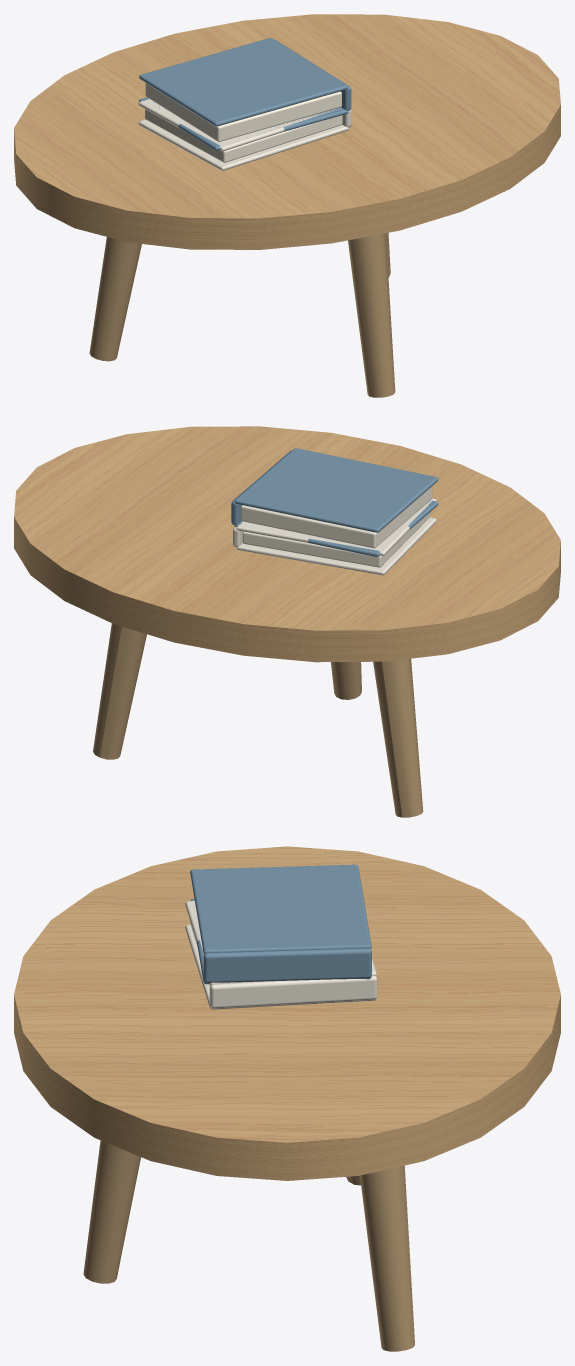
Rendered from coffeeTable.glb.
The picture shows the model from 3 angles, top to bottom: view 1: azimuth 30°, elevation 25°; view 2: azimuth 150°, elevation 25°; view 3: azimuth 270°, elevation 25°; orthographic projection. The views are drawn at different scales.
Visible parts, largest first — view 1: CoffeeTable_oak, CoffeeTable_blue, CoffeeTable_oakDark, CoffeeTable_paper, CoffeeTable_cream; view 2: CoffeeTable_oak, CoffeeTable_blue, CoffeeTable_oakDark, CoffeeTable_paper, CoffeeTable_cream; view 3: CoffeeTable_oak, CoffeeTable_blue, CoffeeTable_oakDark, CoffeeTable_cream.
Part boxes in pixels (x1=…): CoffeeTable_oak: x1=14, y1=14, x2=560, y2=249; CoffeeTable_blue: x1=139, y1=38, x2=351, y2=150; CoffeeTable_oakDark: x1=89, y1=232, x2=395, y2=397; CoffeeTable_paper: x1=145, y1=83, x2=342, y2=162; CoffeeTable_cream: x1=138, y1=99, x2=351, y2=170; CoffeeTable_oak: x1=14, y1=426, x2=560, y2=662; CoffeeTable_blue: x1=231, y1=448, x2=438, y2=556; CoffeeTable_oakDark: x1=93, y1=623, x2=423, y2=817; CoffeeTable_paper: x1=241, y1=486, x2=432, y2=567; CoffeeTable_cream: x1=233, y1=498, x2=436, y2=575; CoffeeTable_oak: x1=14, y1=846, x2=560, y2=1180; CoffeeTable_blue: x1=190, y1=864, x2=371, y2=984; CoffeeTable_oakDark: x1=83, y1=1140, x2=414, y2=1351; CoffeeTable_cream: x1=185, y1=901, x2=377, y2=1009.
Size of the model in its own units: 1.08 by 0.5688 by 0.8424.
Materials: 5 (1 with a texture image).
